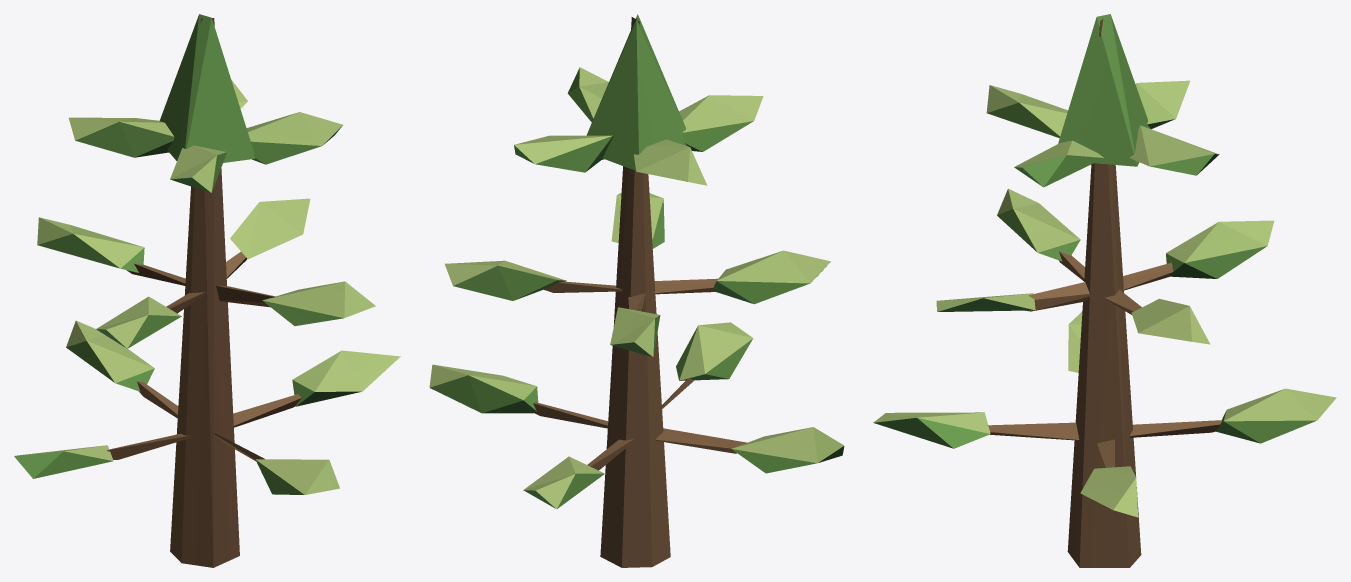
3 renders of one model, left to right at view 1: azimuth 30°, elevation 25°; view 2: azimuth 150°, elevation 25°; view 3: azimuth 270°, elevation 25°, orthographic.
Visible parts, largest first — view 1: WK_Tree_Fir_AlpineLime_LOD2_Compact; view 2: WK_Tree_Fir_AlpineLime_LOD2_Compact; view 3: WK_Tree_Fir_AlpineLime_LOD2_Compact.
Part boxes in pixels (x1,y1,x2,y2): WK_Tree_Fir_AlpineLime_LOD2_Compact: (14,14,400,567); WK_Tree_Fir_AlpineLime_LOD2_Compact: (429,14,844,567); WK_Tree_Fir_AlpineLime_LOD2_Compact: (873,14,1336,567).
Size of the model in its own units: 5.28 by 6.78 by 5.26.
